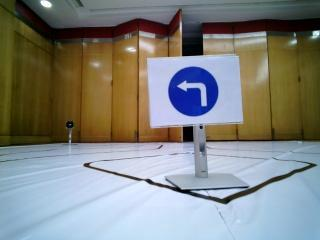left: (147, 59, 235, 121)
